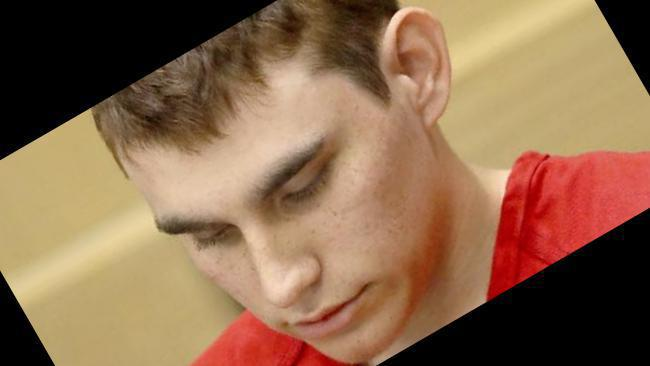Sober: (123, 96, 442, 333)
